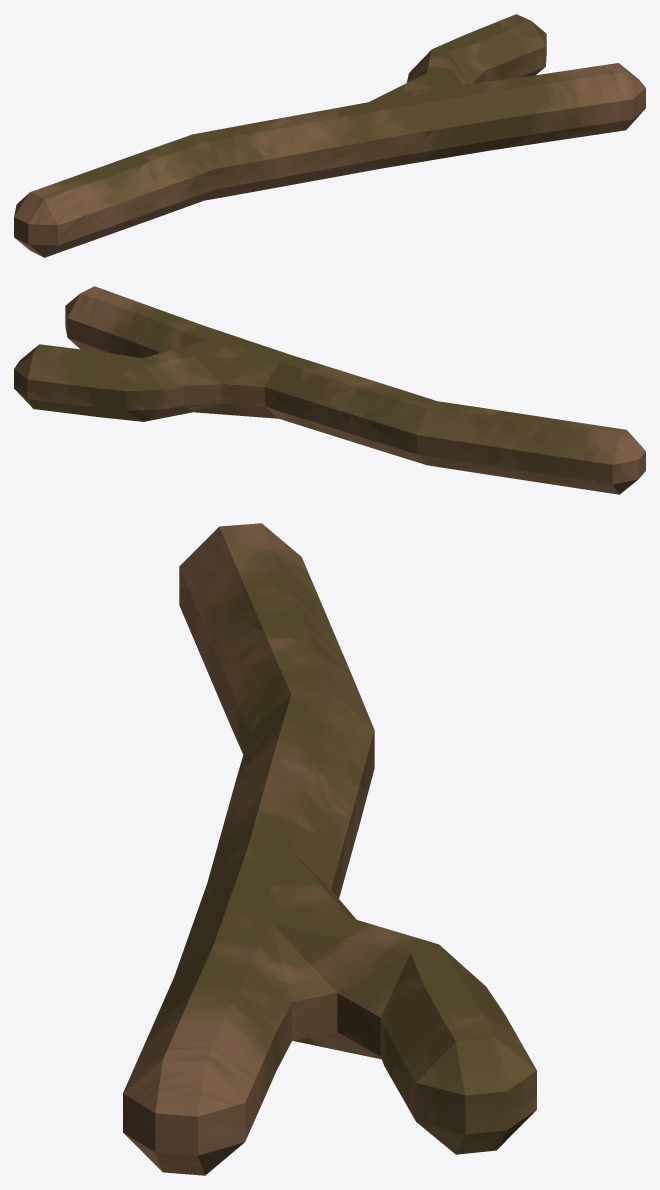
File: patyk_1.obj
3 views of the same model, one above another, from view 1: azimuth 30°, elevation 25°; view 2: azimuth 150°, elevation 25°; view 3: azimuth 270°, elevation 25° (orthographic). The views are drawn at different scales.
Parts seen in each view (by area): view 1: Vert.008; view 2: Vert.008; view 3: Vert.008.
Part boxes in pixels (<box>): Vert.008: <box>14,14,645,257</box>; Vert.008: <box>14,286,645,494</box>; Vert.008: <box>123,523,536,1175</box>.
Size of the model in its own units: 12.03 by 1.1 by 3.67.
1 material, 1 textured.
